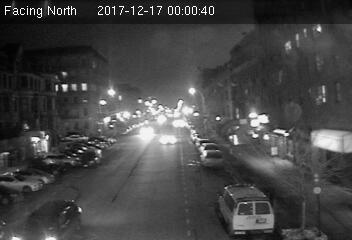car: (9, 197, 85, 240), (199, 147, 223, 168)
police: (218, 180, 276, 233)
